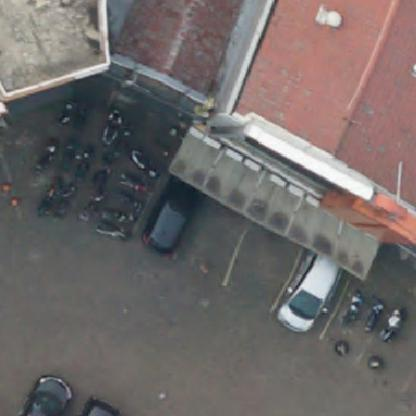car: (280, 249, 344, 336), (148, 179, 203, 256), (18, 371, 74, 415), (80, 398, 122, 415)
motorcycle: (126, 146, 157, 176), (379, 307, 406, 341), (34, 137, 59, 173), (94, 221, 133, 244), (76, 193, 105, 223), (34, 179, 58, 215), (102, 203, 137, 226), (110, 186, 141, 210), (73, 147, 96, 178), (52, 184, 72, 219), (116, 176, 150, 195), (105, 109, 123, 144), (344, 289, 361, 324), (93, 164, 110, 194), (364, 301, 381, 331), (58, 97, 75, 126)
